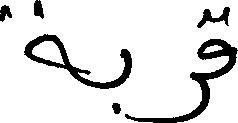X: (0, 0, 70, 78), (163, 4, 208, 122), (210, 2, 237, 83), (119, 44, 132, 122)
